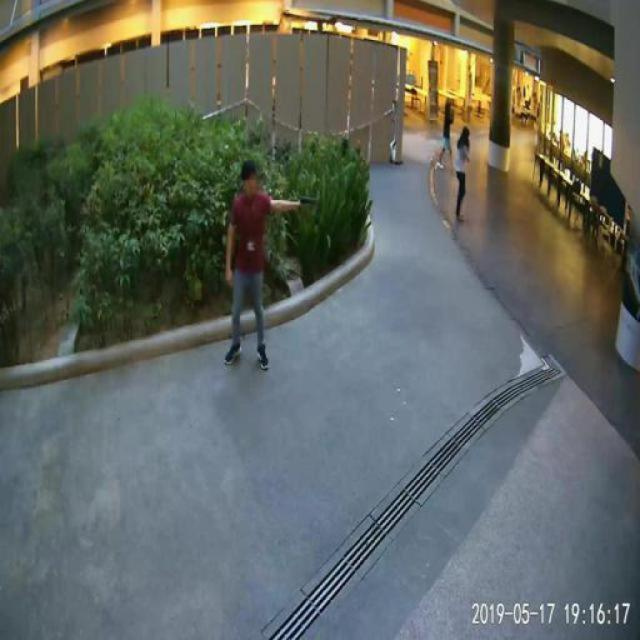pistol: (295, 191, 316, 210)
